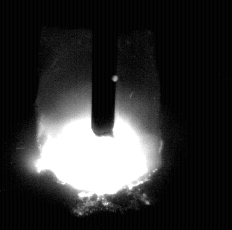arame: (92, 0, 117, 137)
poca: (36, 0, 164, 230)
